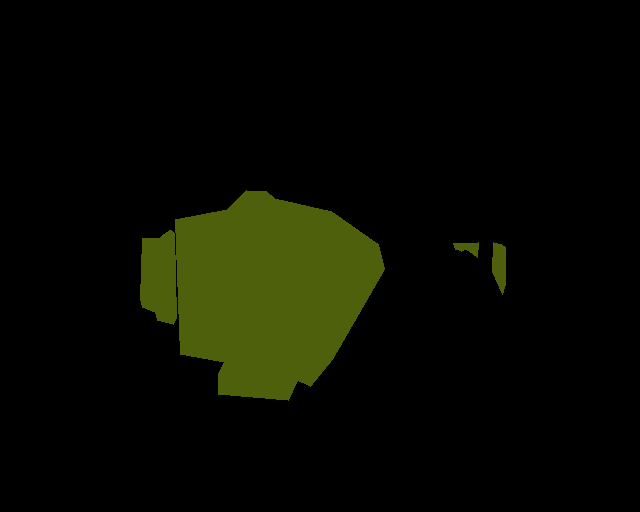Train: (175, 190, 384, 400), (140, 230, 177, 324), (453, 242, 506, 295)
